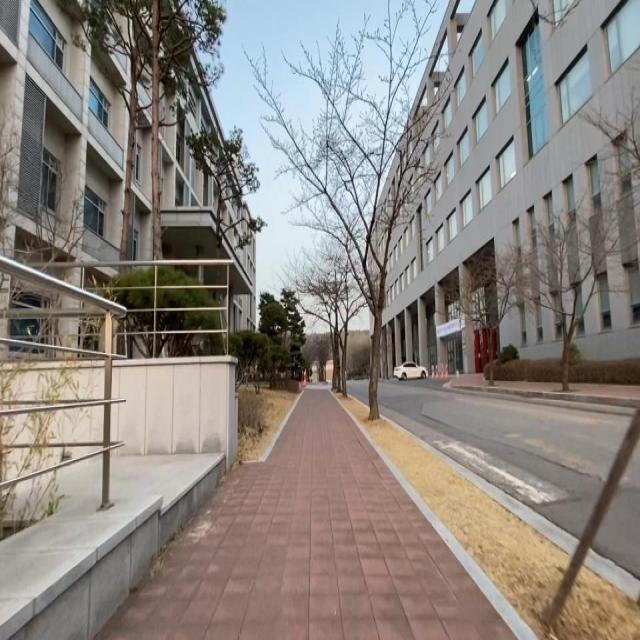sidewalk: (93, 388, 519, 640), (451, 373, 640, 401)
